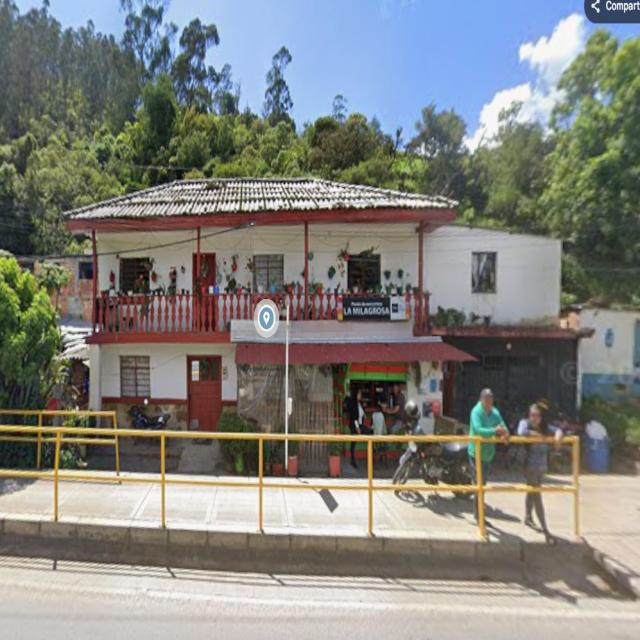Casa: (69, 179, 580, 430), (571, 308, 639, 401), (31, 255, 92, 327)
